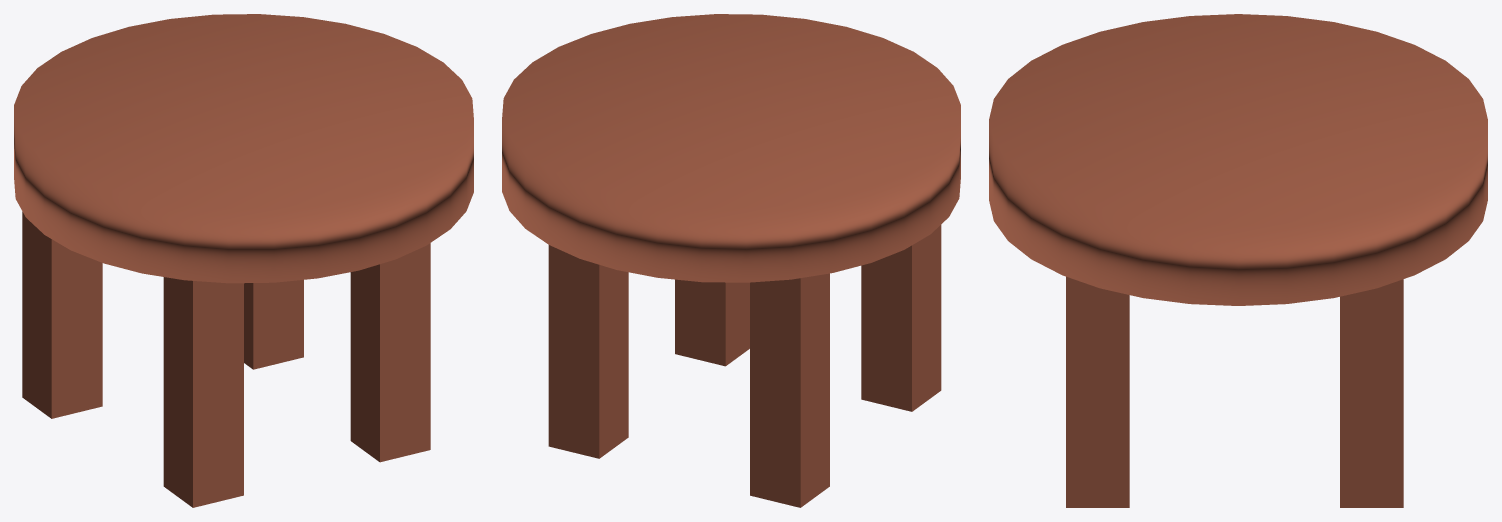
The model's file is table.glb.
The picture shows the model from 3 angles, left to right: view 1: azimuth 30°, elevation 25°; view 2: azimuth 150°, elevation 25°; view 3: azimuth 270°, elevation 25°; orthographic projection. The views are drawn at different scales.
Parts seen in each view (by area): view 1: Cylinder, Cube.002, Cube, Cube.003, Cube.001; view 2: Cylinder, Cube.003, Cube.001, Cube.002, Cube; view 3: Cylinder, Cube, Cube.001.
Boxes of the visible parts, x1,y1,x2,y2 form: Cylinder: [14, 14, 473, 283]; Cube.002: [163, 277, 243, 507]; Cube: [350, 243, 430, 462]; Cube.003: [22, 211, 102, 418]; Cube.001: [244, 280, 303, 369]; Cylinder: [502, 14, 960, 282]; Cube.003: [750, 273, 829, 507]; Cube.001: [548, 245, 628, 458]; Cube.002: [861, 225, 941, 411]; Cube: [675, 279, 749, 366]; Cylinder: [989, 14, 1487, 305]; Cube: [1066, 276, 1129, 507]; Cube.001: [1340, 279, 1403, 507].
Bounding box in the file's own units: 2 × 1.47 × 2.
